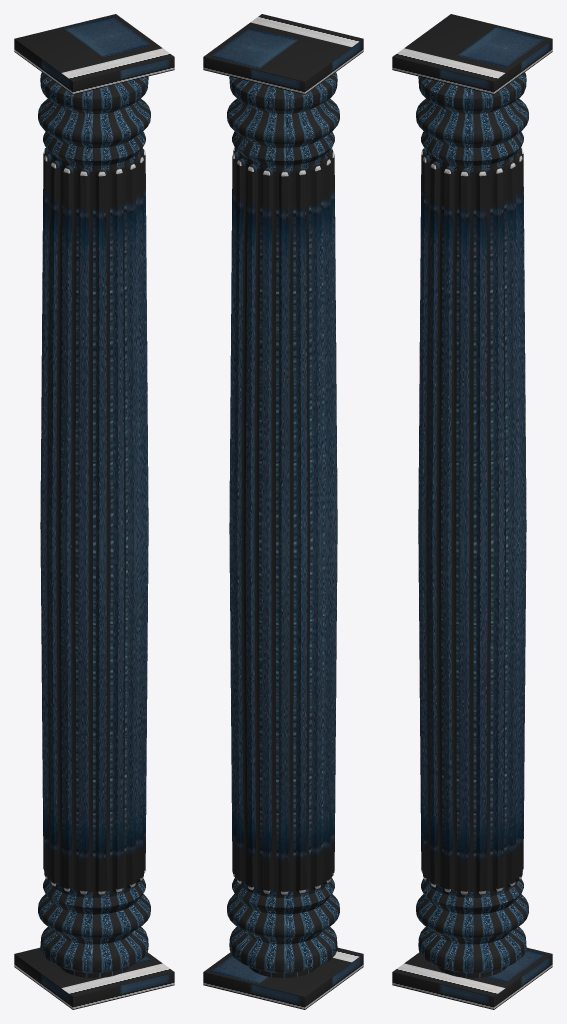
File: BR_Column.glb
The picture shows the model from 3 angles, left to right: view 1: azimuth 30°, elevation 25°; view 2: azimuth 150°, elevation 25°; view 3: azimuth 330°, elevation 25°; orthographic projection.
Visible parts, largest first — view 1: 01 - Default; view 2: 01 - Default; view 3: 01 - Default.
Part boxes in pixels (x1,y1,x2,y2): 01 - Default: (14,14,174,1009); 01 - Default: (203,14,363,1009); 01 - Default: (392,14,552,1009).
Bounding box in the file's own units: 0.3224 × 2.81 × 0.3224.
Materials: 1 (1 with a texture image).
